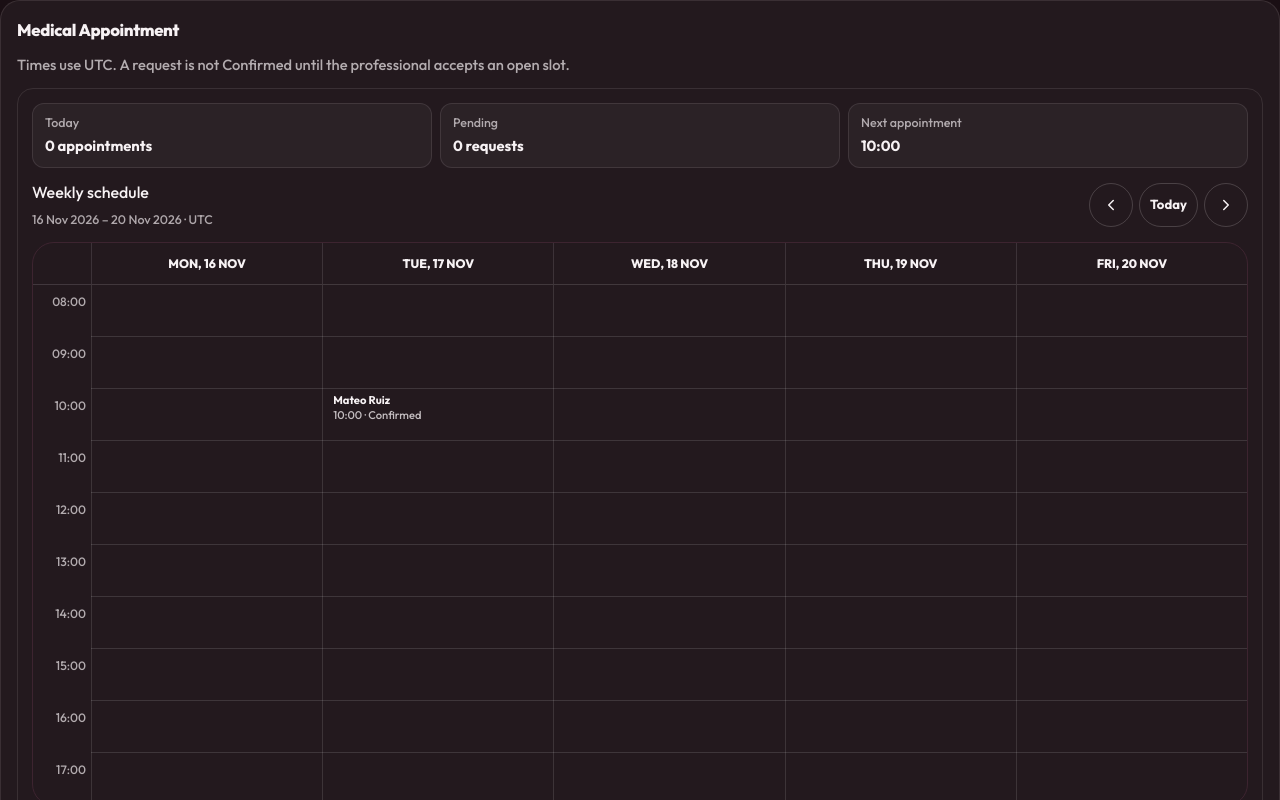
Test: AppointmentDesk weekly schedule › shows assigned visits in the professional week and can navigate weeks
Expected: the heading "Weekly schedule" is shown, [32,182,149,202]
Expected: the text "10:00 · Confirmed" is shown, [333,408,421,422]
Click the button named "Next week".
click(1226, 205)  # box [1204,183,1248,227]
(page scrolled)
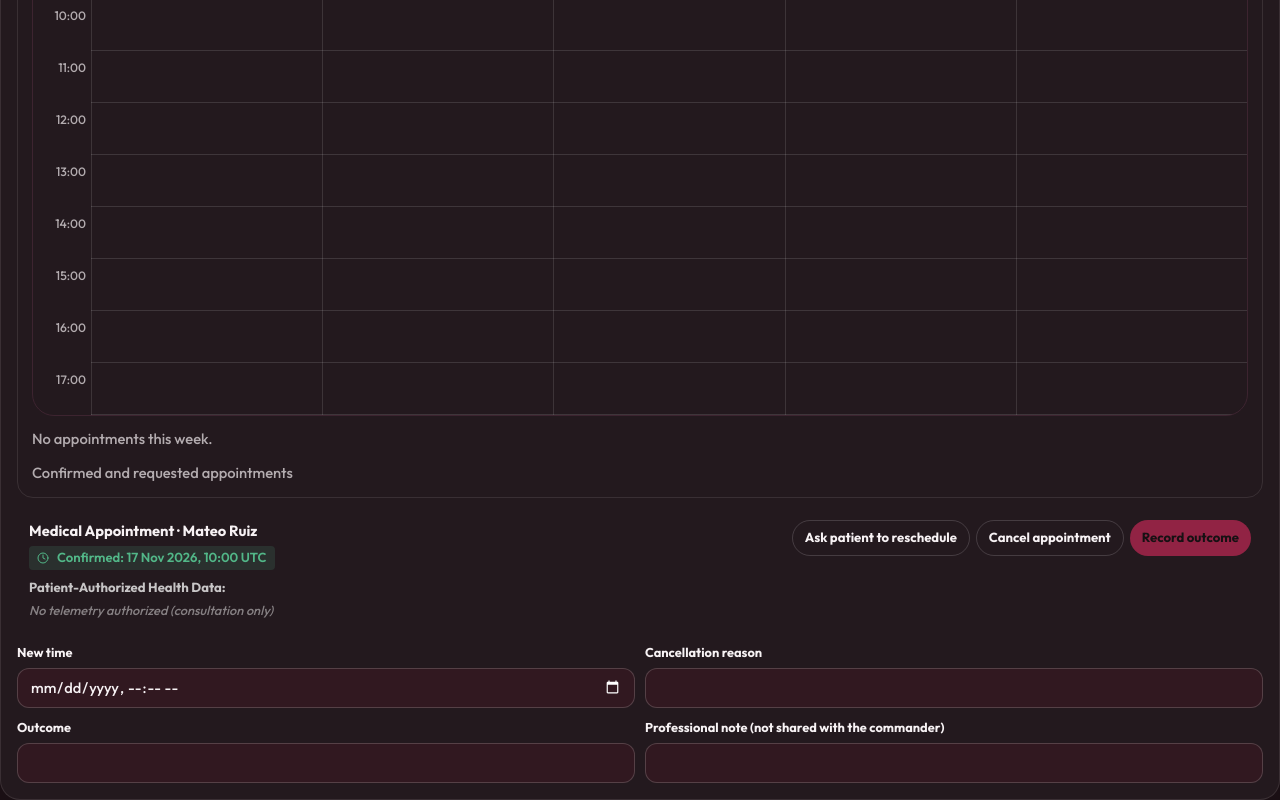
Now the text "No appointments this week." is shown, box [32,429,212,448]
